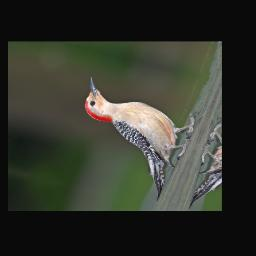Woodpecker: (49, 74, 206, 203)
